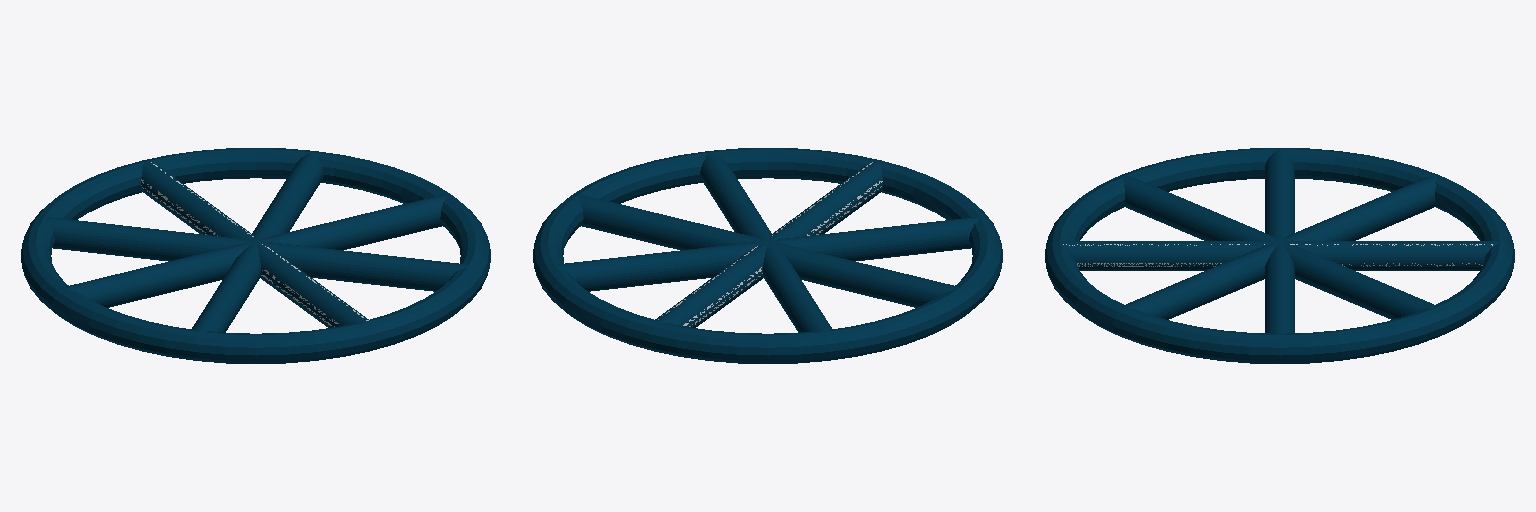
The model's file is trainWheel.obj.
3 renders of one model, left to right at view 1: azimuth 30°, elevation 25°; view 2: azimuth 150°, elevation 25°; view 3: azimuth 270°, elevation 25°, orthographic.
Parts seen in each view (by area): view 1: Cylinder.002, Cylinder; view 2: Cylinder.002, Cylinder; view 3: Cylinder.002.
Boxes of the visible parts, x1,y1,x2,y2 form: Cylinder.002: [21, 148, 490, 363]; Cylinder: [141, 162, 368, 326]; Cylinder.002: [533, 148, 1002, 363]; Cylinder: [658, 162, 882, 326]; Cylinder.002: [1045, 148, 1514, 363].
Bounding box in the file's own units: 2.14 × 0.14 × 2.14.